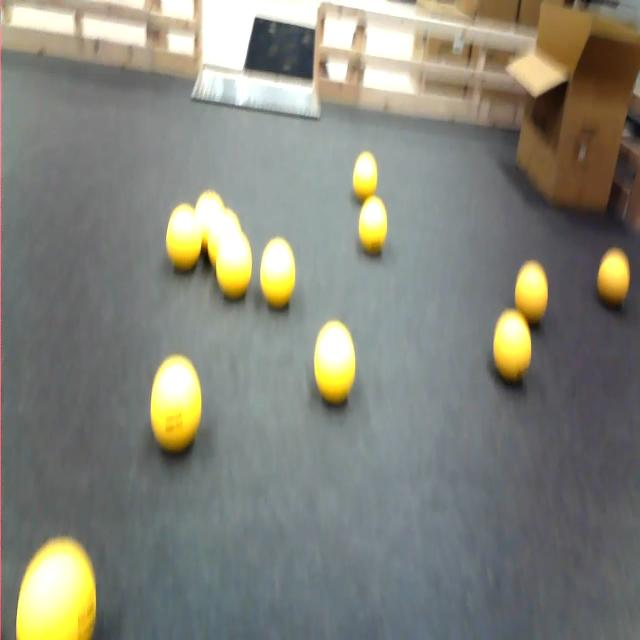fuel: (16, 538, 96, 639), (151, 356, 201, 452), (314, 321, 355, 404), (493, 310, 531, 383), (216, 229, 252, 299), (260, 238, 295, 308), (166, 204, 202, 271), (515, 261, 547, 324), (208, 209, 240, 266), (598, 248, 629, 306), (195, 191, 224, 250), (359, 196, 387, 254), (353, 151, 377, 201), (226, 208, 241, 228)
